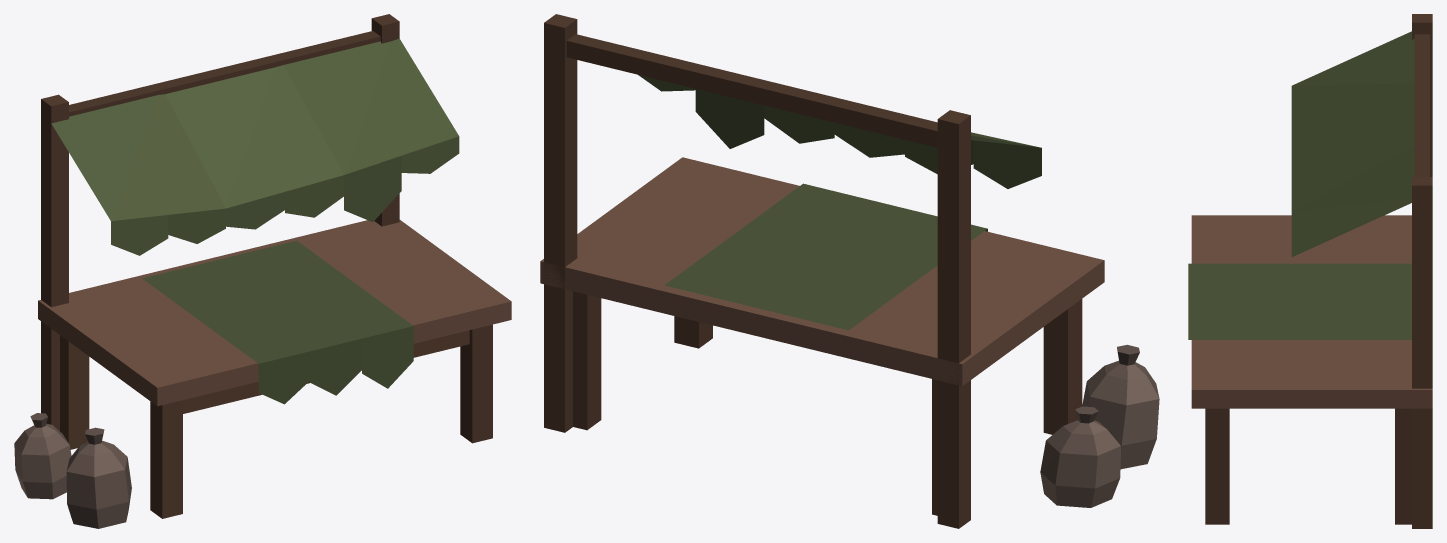
The model's file is stallGreen.glb.
3 renders of one model, left to right at view 1: azimuth 30°, elevation 25°; view 2: azimuth 150°, elevation 25°; view 3: azimuth 270°, elevation 25°, orthographic. The views are drawn at different scales.
Visible parts, largest first — view 1: lit; view 2: lit; view 3: lit.
Part boxes in pixels (x1,y1,x2,y2): lit: (14,14,511,528); lit: (540,14,1159,528); lit: (1188,14,1432,528).
Size of the model in its own units: 2.91 by 2.2 by 1.42.
